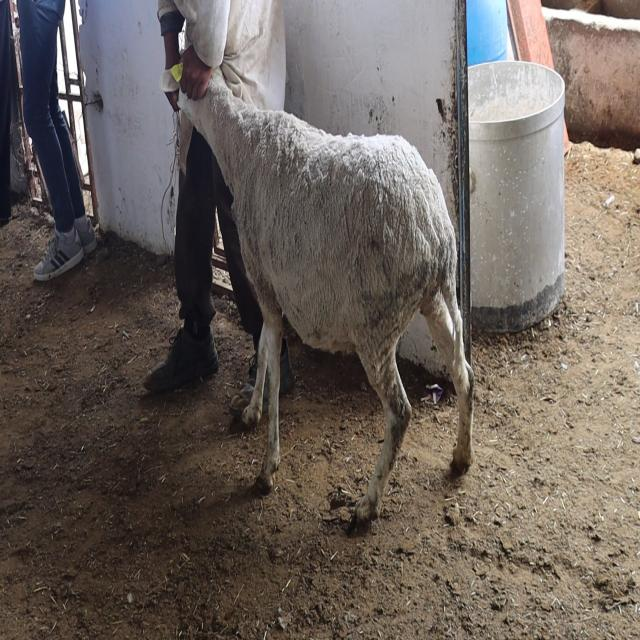Score_5: (181, 73, 474, 529)
